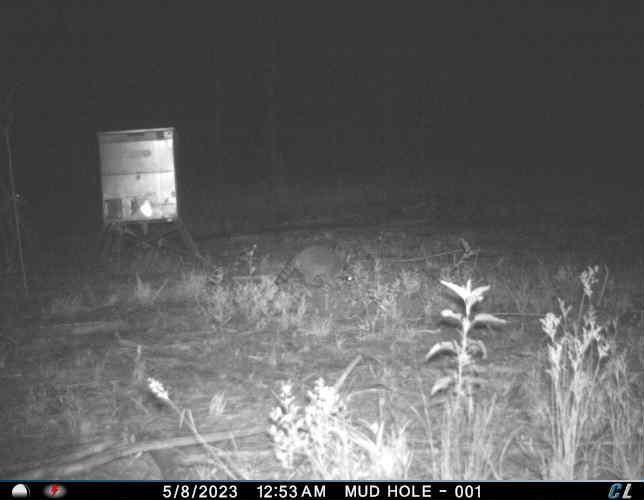Raccoon: (270, 242, 351, 291)
